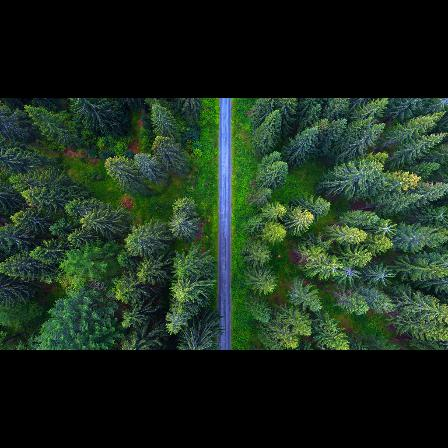Sick: (335, 259, 364, 287), (368, 261, 396, 289), (376, 214, 402, 240)
